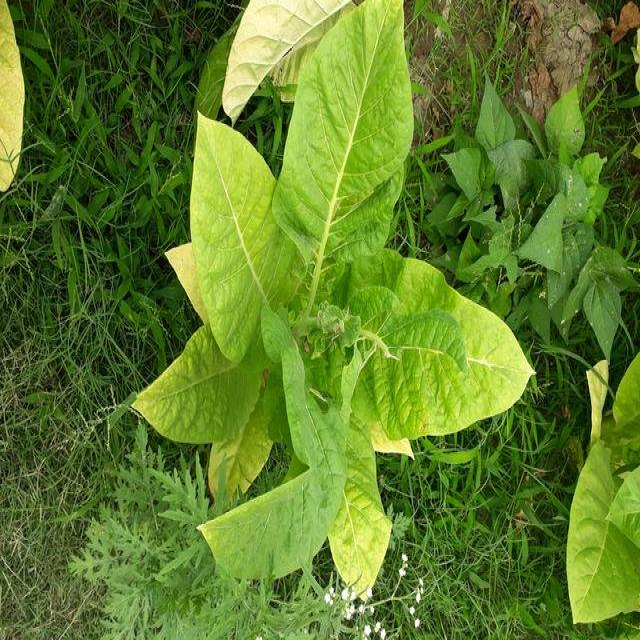crop: (173, 50, 522, 578), (234, 9, 395, 124), (576, 363, 640, 624)
